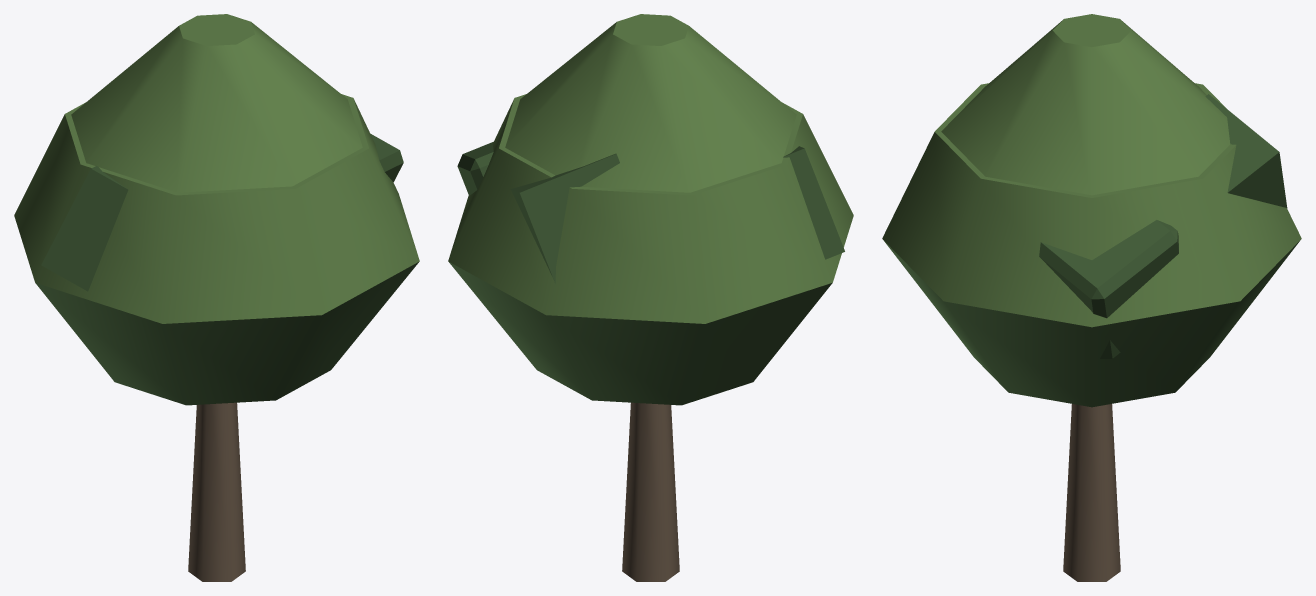
File: tree_linden.glb
3 renders of one model, left to right at view 1: azimuth 30°, elevation 25°; view 2: azimuth 150°, elevation 25°; view 3: azimuth 270°, elevation 25°, orthographic.
Visible parts, largest first — view 1: tree_linden; view 2: tree_linden; view 3: tree_linden.
Boxes of the visible parts, box(x1,y1,x2,y2) form: tree_linden: box(14, 14, 419, 581); tree_linden: box(448, 14, 853, 581); tree_linden: box(882, 14, 1301, 581).
Bounding box in the file's own units: 3.28 × 4.55 × 3.2.
Materials: 1 (1 with a texture image).
